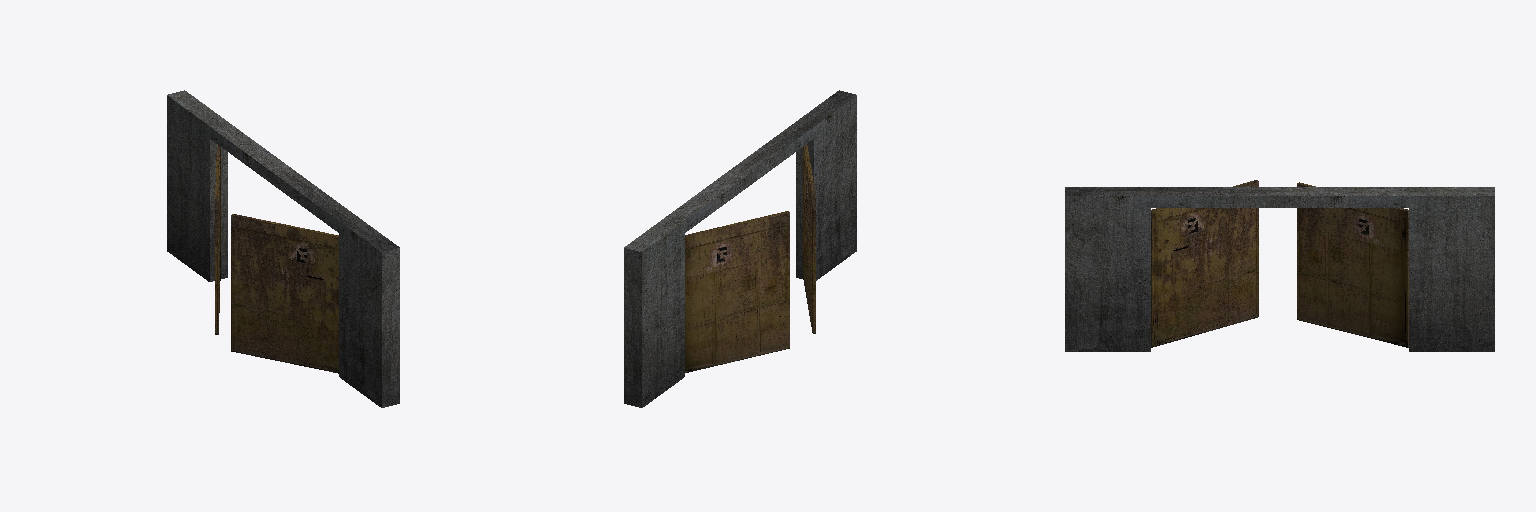
The picture shows the model from 3 angles: view 1: azimuth 30°, elevation 25°; view 2: azimuth 150°, elevation 25°; view 3: azimuth 270°, elevation 25°; orthographic projection.
Visible parts, largest first — view 1: Object_ConcreteWall.jpg, Object_metal_gate.jpg; view 2: Object_ConcreteWall.jpg, Object_metal_gate.jpg; view 3: Object_ConcreteWall.jpg, Object_metal_gate.jpg.
Part boxes in pixels (bbox=[...]): Object_ConcreteWall.jpg: bbox=[167, 90, 399, 407]; Object_metal_gate.jpg: bbox=[215, 144, 338, 373]; Object_ConcreteWall.jpg: bbox=[624, 90, 856, 407]; Object_metal_gate.jpg: bbox=[685, 144, 815, 372]; Object_ConcreteWall.jpg: bbox=[1065, 187, 1494, 351]; Object_metal_gate.jpg: bbox=[1151, 180, 1408, 347].
Size of the model in its own units: 0.4927 by 1 by 2.5.
4 materials, 2 textured.